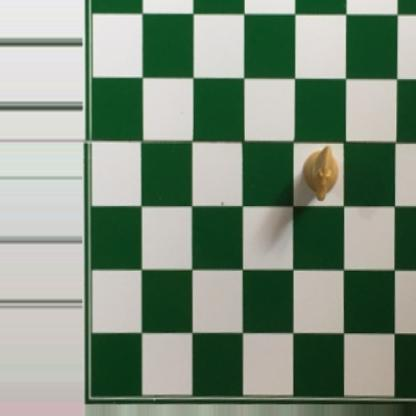white-knight: (301, 144, 340, 202)
